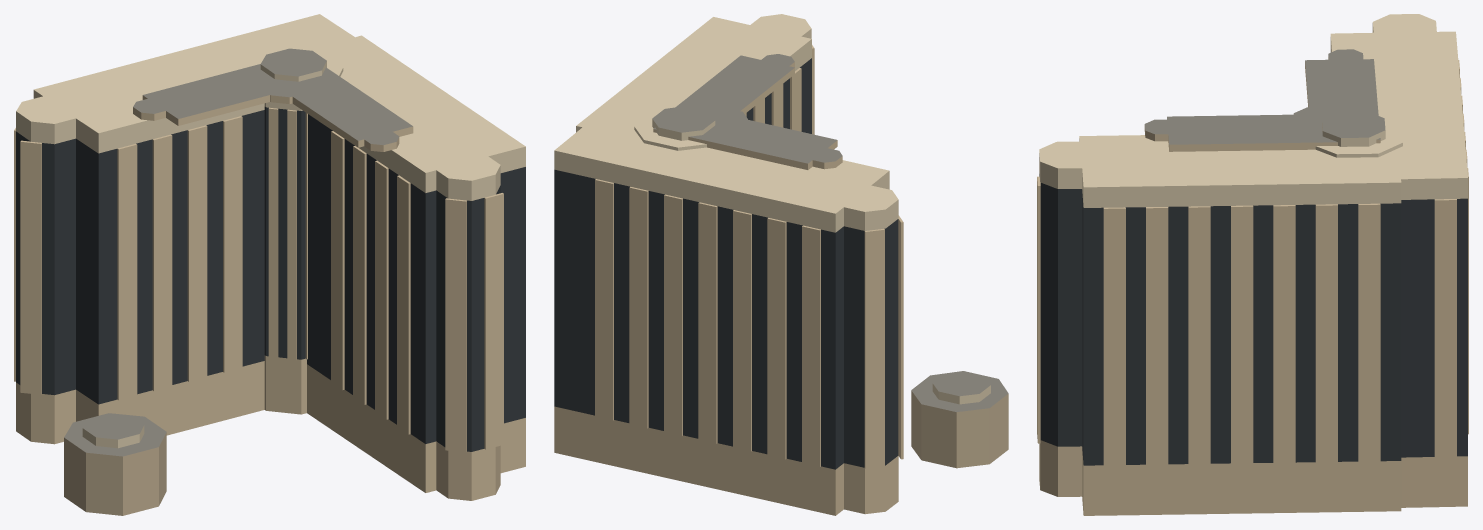
File: hilton_grand_vacations_r6138876.glb
3 views of the same model, side by side, from view 1: azimuth 30°, elevation 25°; view 2: azimuth 150°, elevation 25°; view 3: azimuth 270°, elevation 25° (orthographic). The views are drawn at different scales.
Parts seen in each view (by area): view 1: Tower; view 2: Tower; view 3: Tower.
Boxes of the visible parts, left/top/right/bottom form: Tower: left=14, top=14, right=525, bottom=515; Tower: left=554, top=14, right=1008, bottom=515; Tower: left=1037, top=14, right=1468, bottom=515.
Size of the model in its own units: 68.73 by 57.6 by 66.09.
